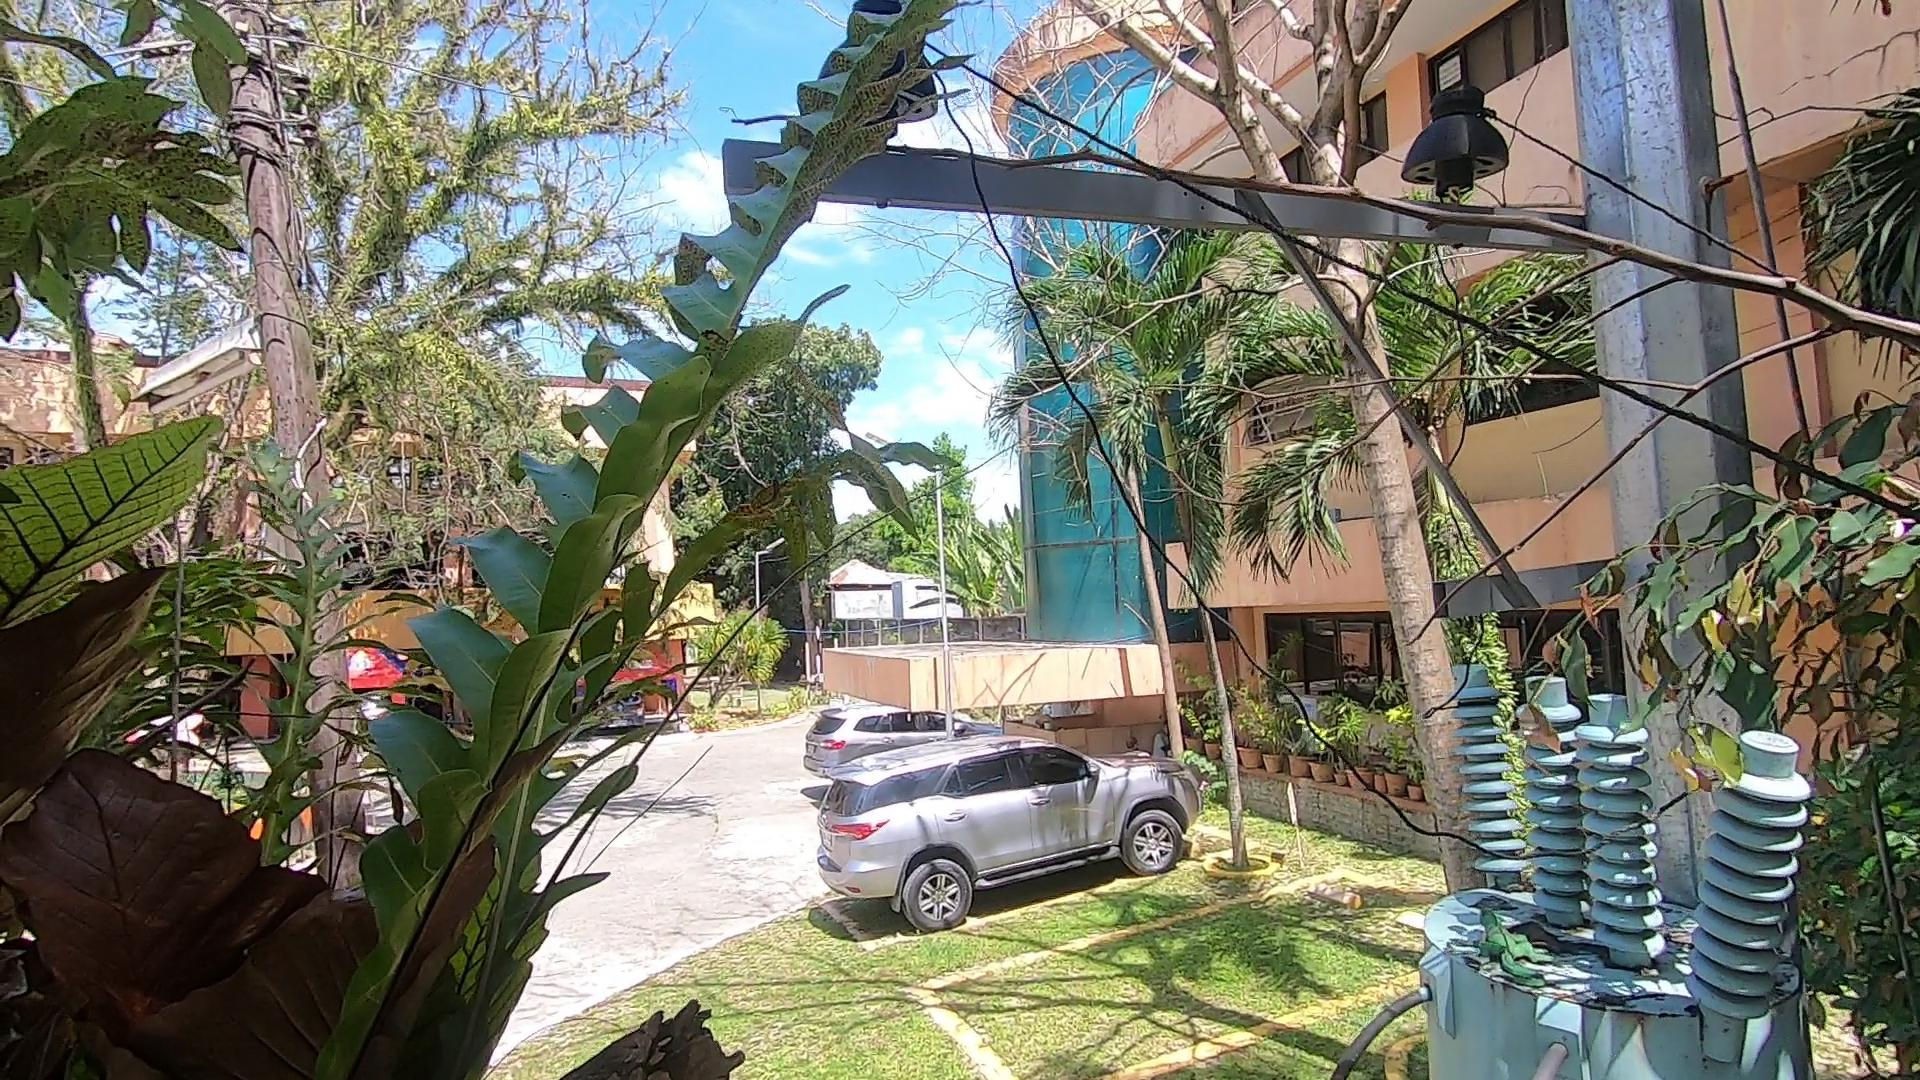leaf: (1490, 916, 1567, 949)
tree branch: (727, 82, 1920, 632)
